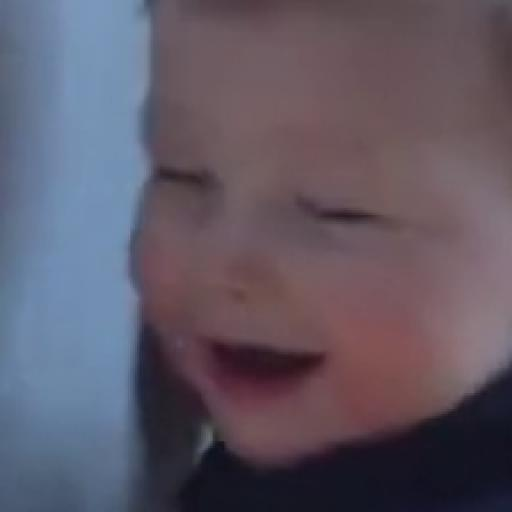Autism: (52, 12, 512, 482)
